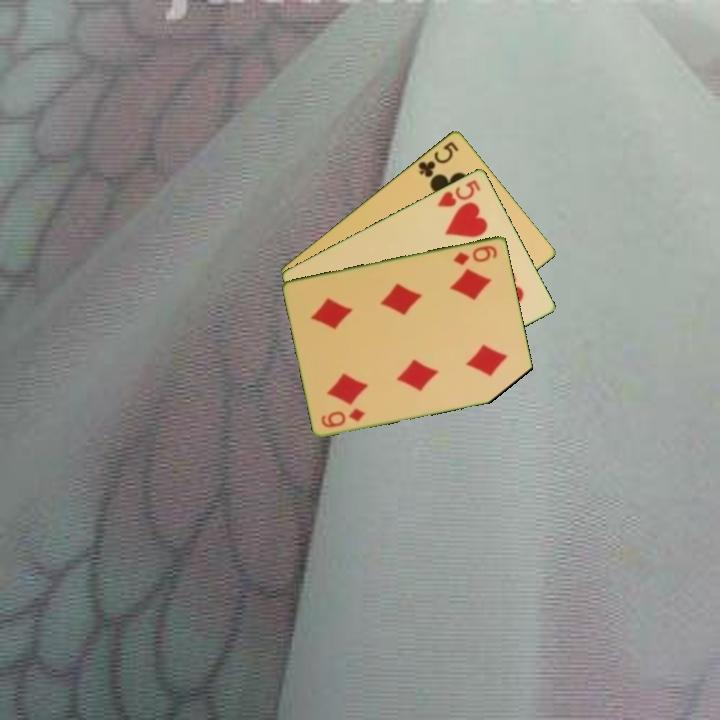5c: (414, 137, 462, 180)
5h: (434, 176, 483, 210)
6d: (450, 241, 500, 268), (318, 404, 368, 430)
